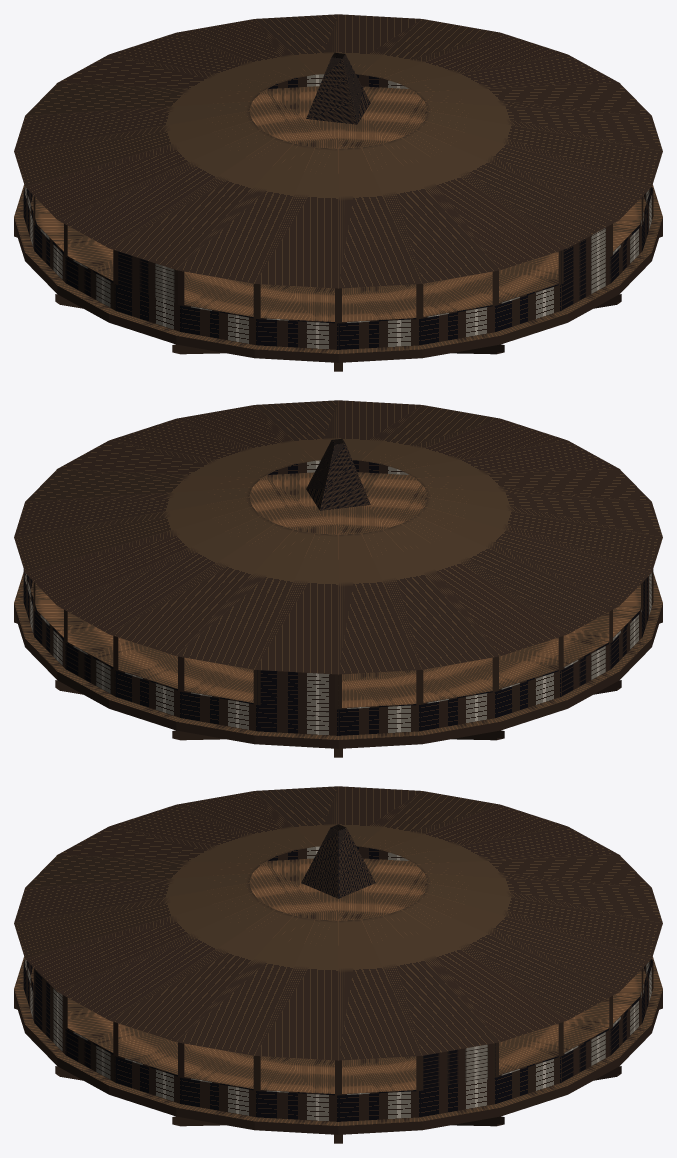
The model's file is TOR-09_Mirador.gltf.
3 views of the same model, one above another, from view 1: azimuth 30°, elevation 25°; view 2: azimuth 150°, elevation 25°; view 3: azimuth 270°, elevation 25° (orthographic).
Parts seen in each view (by area): view 1: TOR-09_Mirador-col; view 2: TOR-09_Mirador-col; view 3: TOR-09_Mirador-col.
Part boxes in pixels (box(x1,y1,x2,y2)): TOR-09_Mirador-col: box(14, 14, 662, 371); TOR-09_Mirador-col: box(14, 400, 662, 757); TOR-09_Mirador-col: box(14, 786, 662, 1143).
Size of the model in its own units: 23.33 by 10.7 by 23.33.
1 material, 1 textured.
